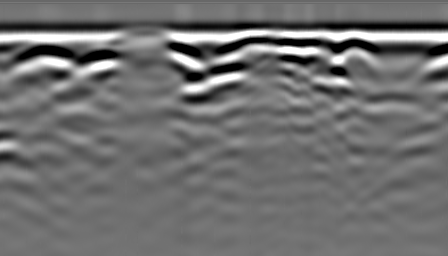pipe: (113, 26, 174, 53), (239, 30, 286, 57)
